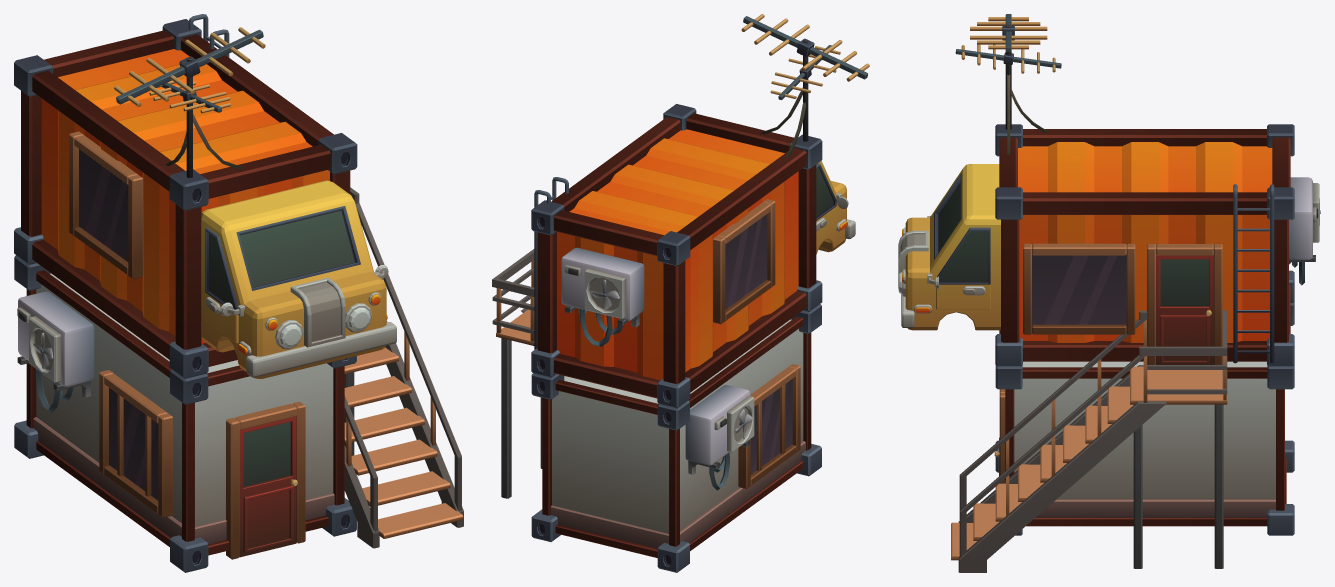
The model's file is sp_prebuild_house_01.fbx.
3 views of the same model, side by side, from view 1: azimuth 30°, elevation 25°; view 2: azimuth 150°, elevation 25°; view 3: azimuth 270°, elevation 25° (orthographic). The views are drawn at different scales.
Parts seen in each view (by area): view 1: finb_house_01; view 2: finb_house_01; view 3: finb_house_01.
Part boxes in pixels (x1=…): finb_house_01: x1=14, y1=14, x2=463, y2=572; finb_house_01: x1=492, y1=14, x2=869, y2=572; finb_house_01: x1=898, y1=14, x2=1320, y2=572.
Size of the model in its own units: 536 by 832 by 705.
